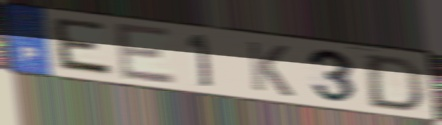1: (185, 33, 215, 91)
3: (303, 48, 361, 106)
D: (366, 52, 426, 113)
E: (112, 20, 179, 86), (52, 15, 118, 80)
K: (244, 39, 297, 100)
